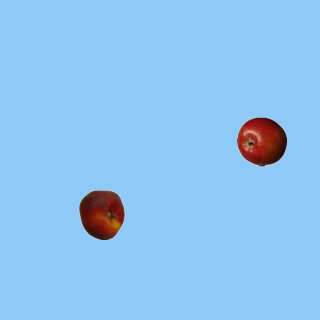Apple Braeburn: (236, 116, 286, 166)
Nectarine Flat: (76, 189, 126, 239)
